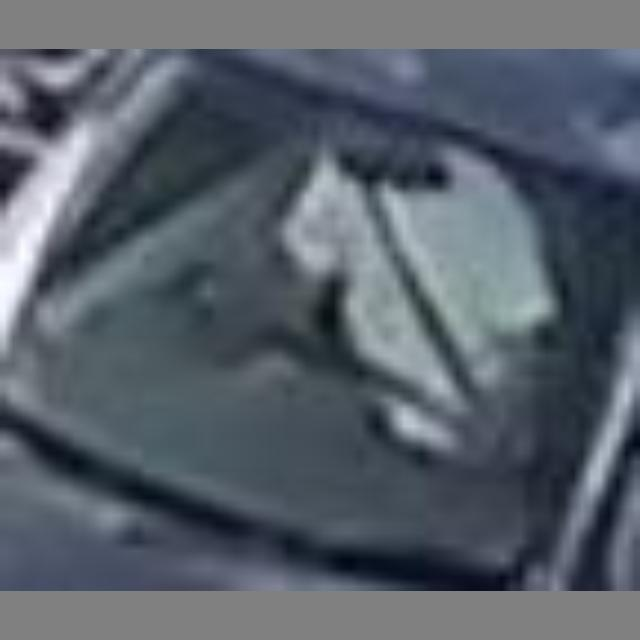pakai: (258, 111, 542, 467)
